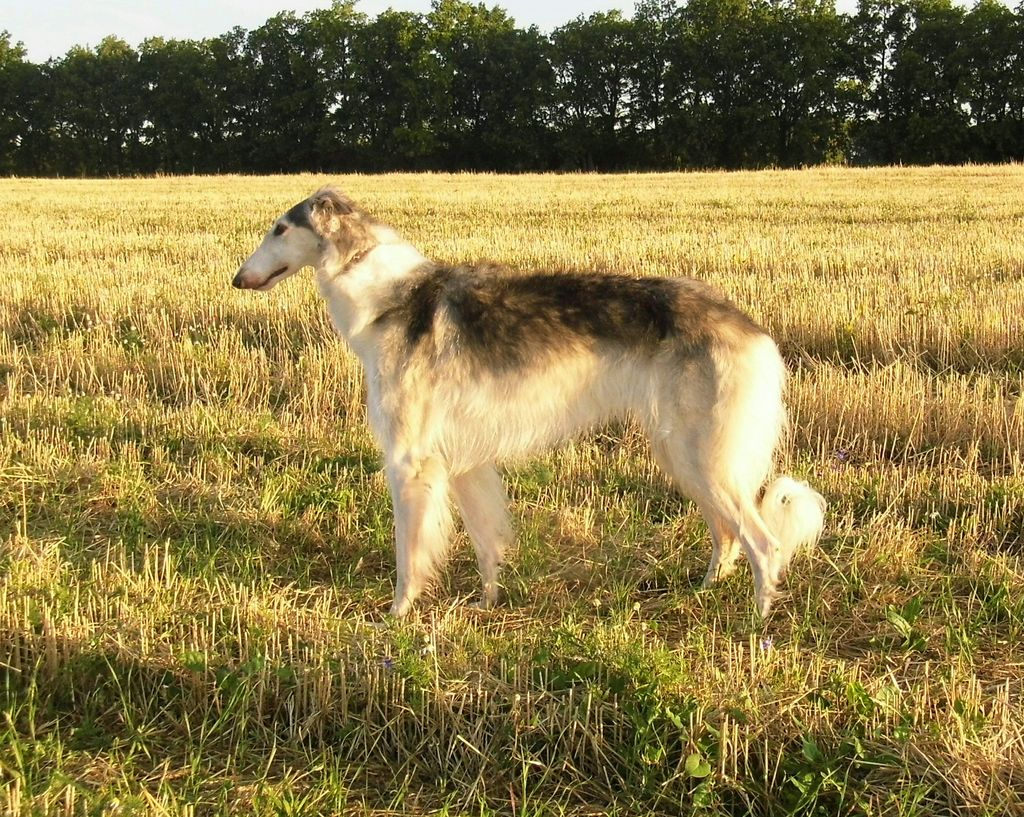borzoi: (206, 179, 838, 640)
